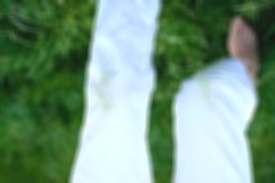earth: (94, 66, 110, 112), (198, 80, 210, 102)
